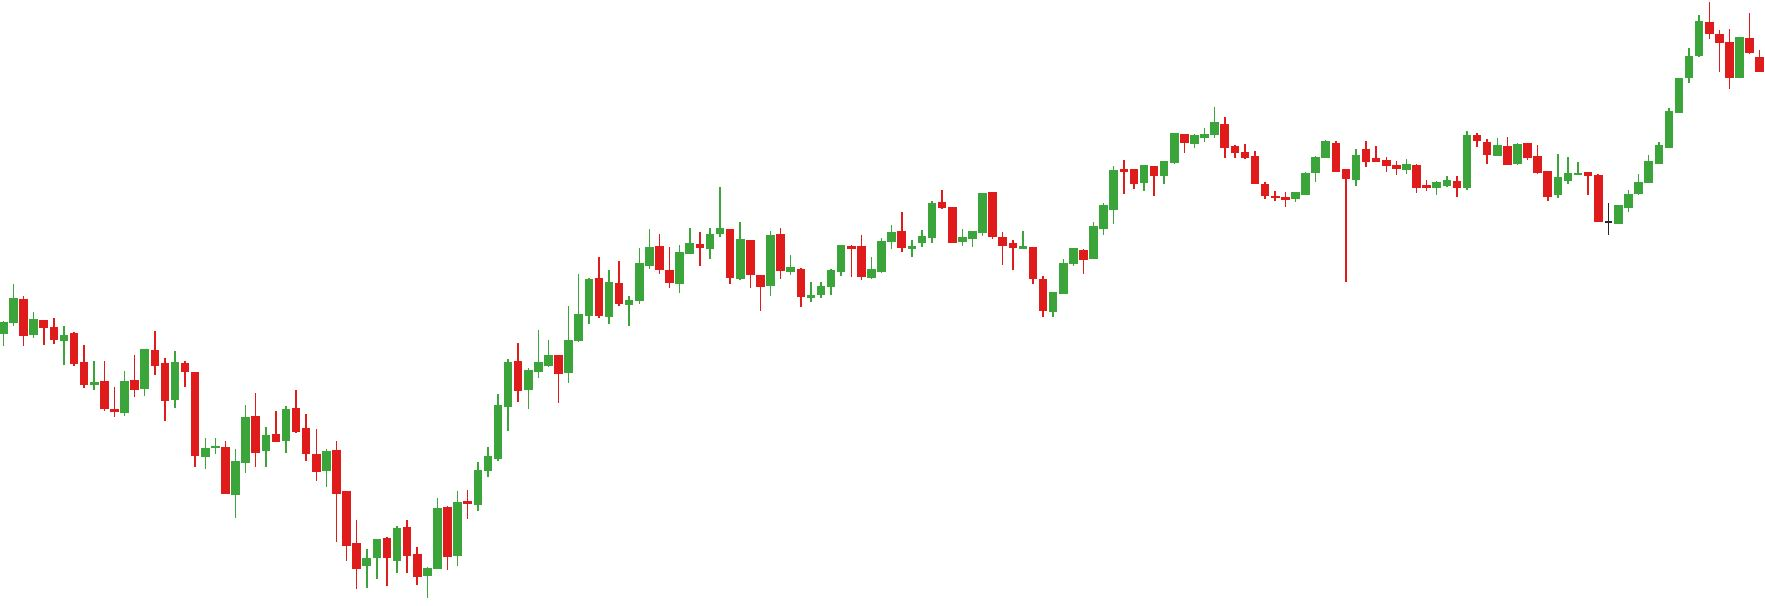buy: (1540, 166, 1636, 237)
sell: (248, 384, 303, 448)
